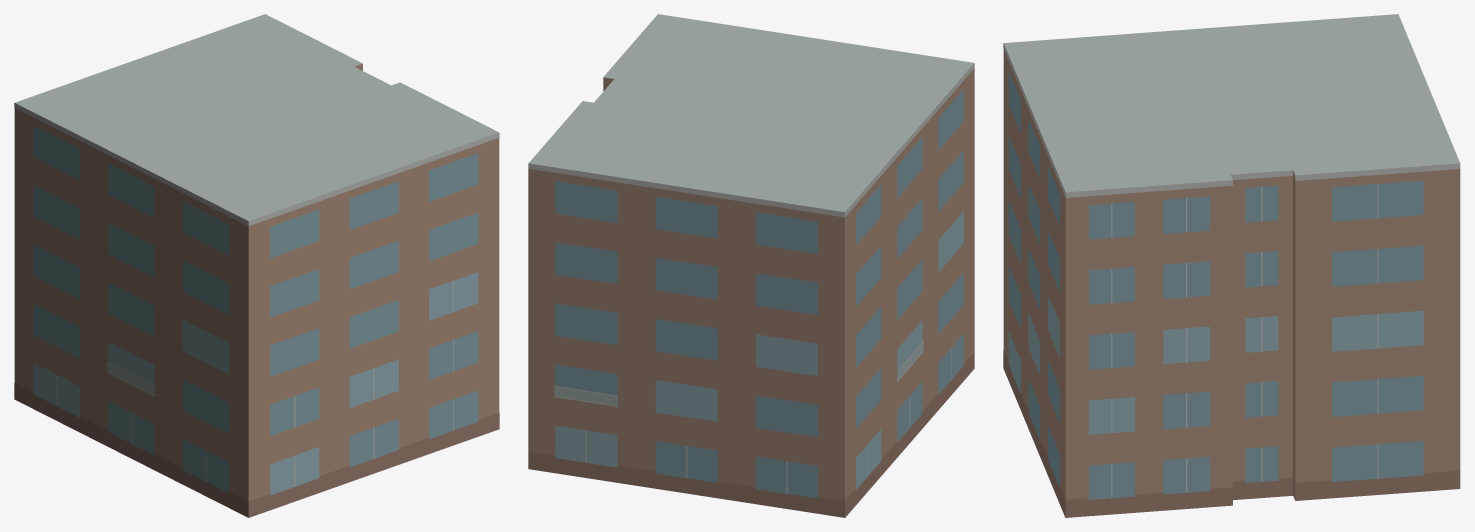
File: survey-upis-32840921.glb
3 renders of one model, left to right at view 1: azimuth 30°, elevation 25°; view 2: azimuth 150°, elevation 25°; view 3: azimuth 270°, elevation 25°, orthographic. The views are drawn at different scales.
Visible parts, largest first — view 1: survey-upis-32840921.tmp; view 2: survey-upis-32840921.tmp; view 3: survey-upis-32840921.tmp.
Boxes of the visible parts, <box> form: survey-upis-32840921.tmp: <box>14,14,499,517</box>; survey-upis-32840921.tmp: <box>528,14,974,517</box>; survey-upis-32840921.tmp: <box>1003,14,1460,517</box>.
Bounding box in the file's own units: 16.7 × 14.2 × 18.07.
